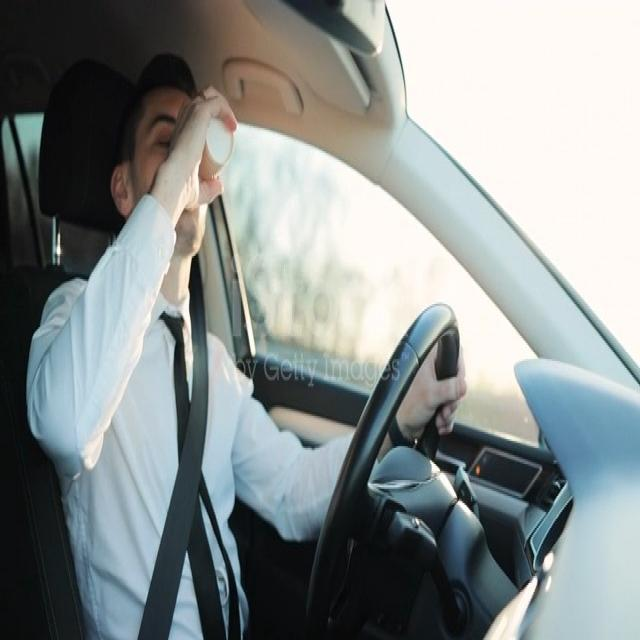Seatbelt: (91, 28, 251, 307)
